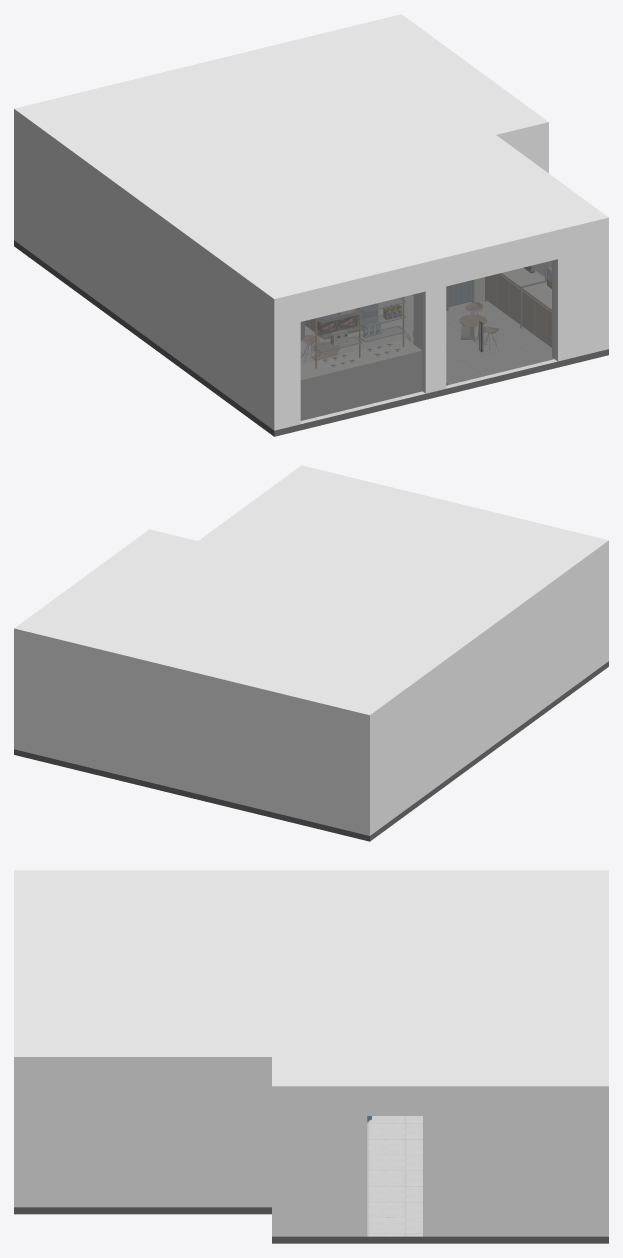
The model's file is shop-small.glb.
3 views of the same model, one above another, from view 1: azimuth 30°, elevation 25°; view 2: azimuth 150°, elevation 25°; view 3: azimuth 270°, elevation 25° (orthographic). The views are drawn at different scales.
Visible parts, largest first — view 1: mesh-0, mesh-6, mesh-5, mesh-4, mesh-7, mesh-10; view 2: mesh-0; view 3: mesh-0, mesh-5.
Part boxes in pixels (<box>): mesh-0: <box>14,14,608,436</box>; mesh-6: <box>300,260,554,420</box>; mesh-5: <box>300,295,557,423</box>; mesh-4: <box>303,274,551,359</box>; mesh-7: <box>301,268,551,379</box>; mesh-10: <box>326,280,473,337</box>; mesh-0: <box>14,465,608,841</box>; mesh-0: <box>14,870,608,1243</box>; mesh-5: <box>367,1116,422,1236</box>.
Size of the model in its own units: 8.38 by 2.84 by 9.75.
73 materials, 73 textured.
